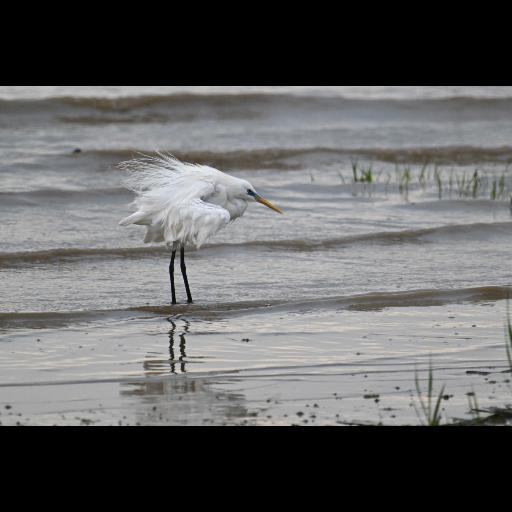chinese_egret: (114, 146, 284, 306)
